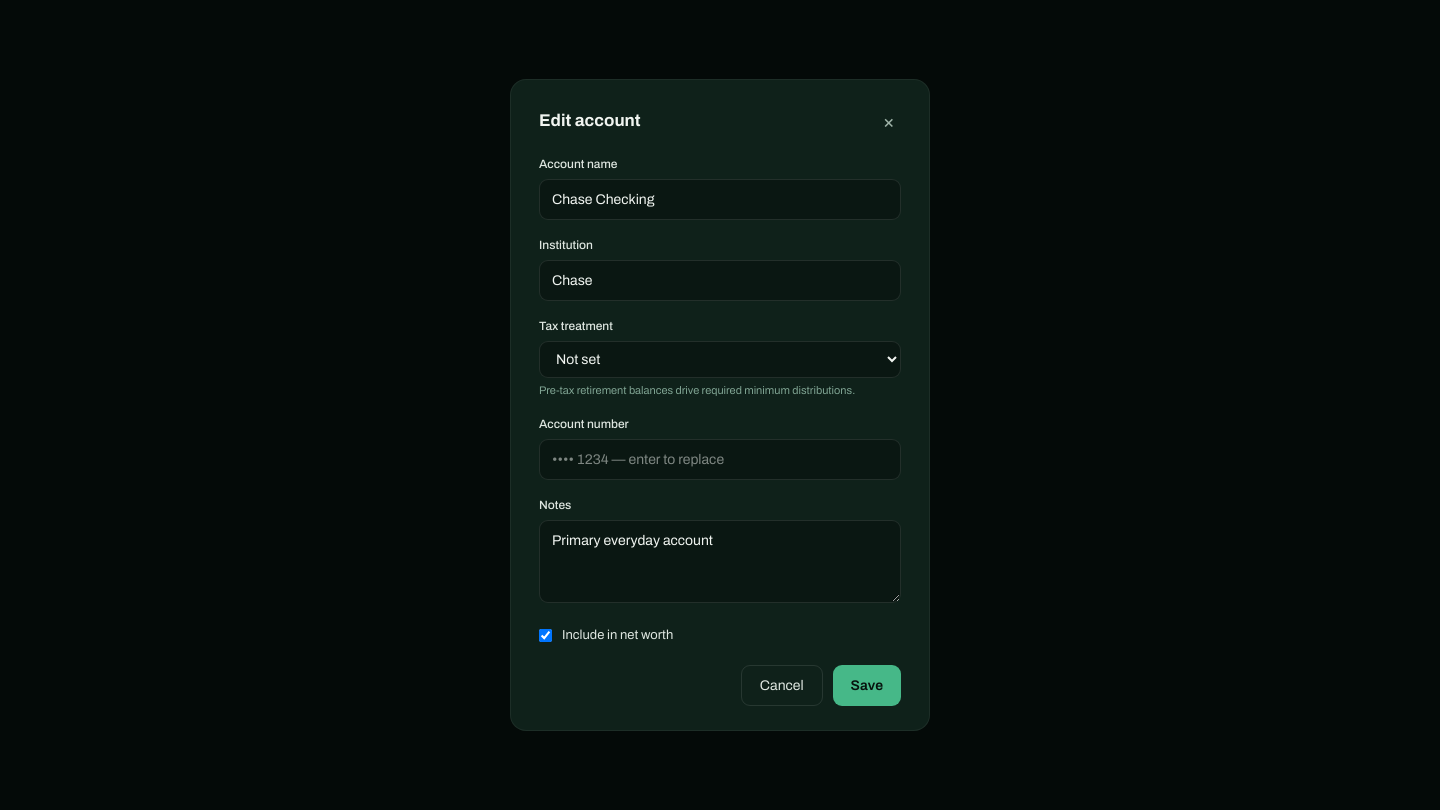
Test: EditAccountModal › shows error message when mutation fails
Step 1. Click the button "Save" → (867, 686), box [833,665,901,706]
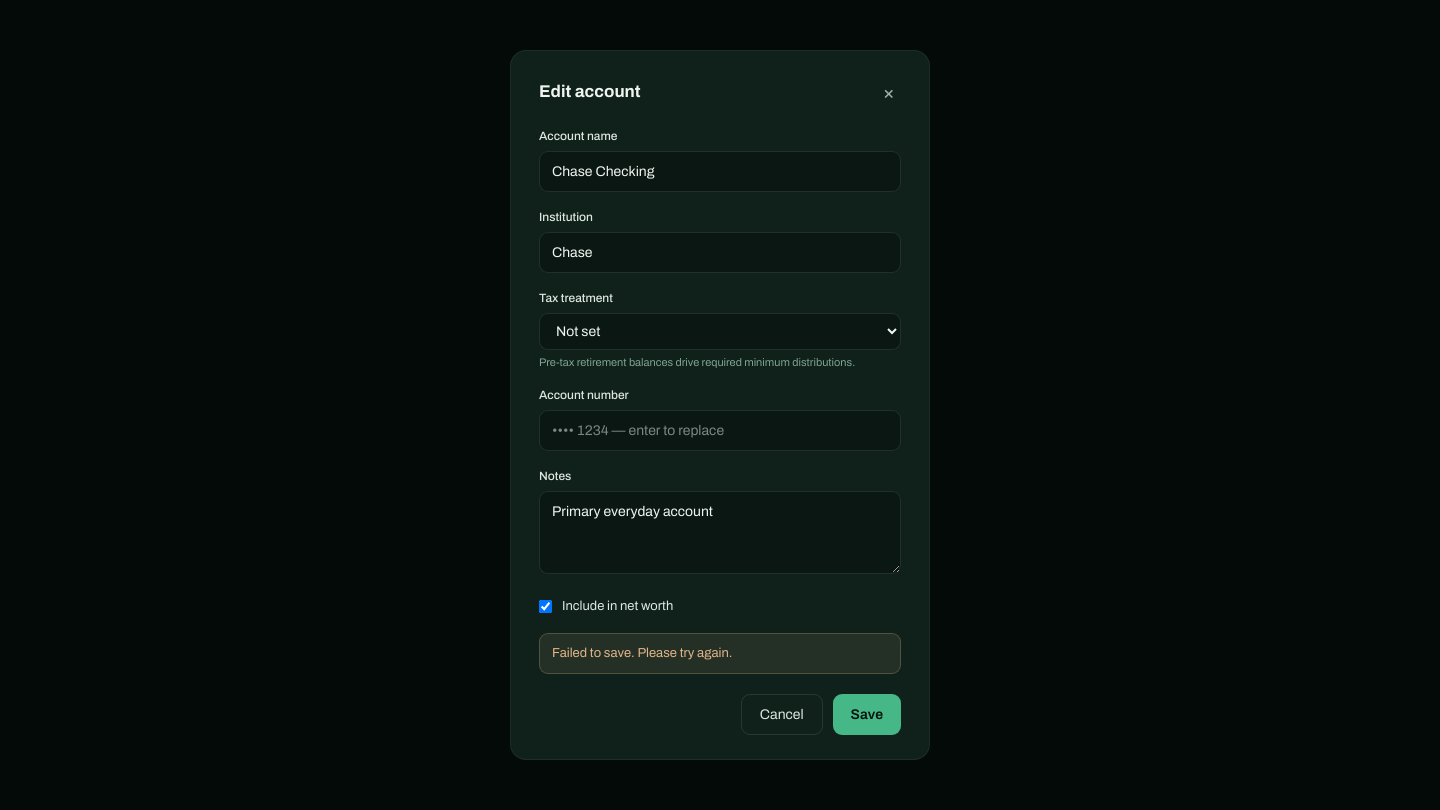
Expected: the text "Failed to save. Please try again." is shown, [539,632,901,674]
